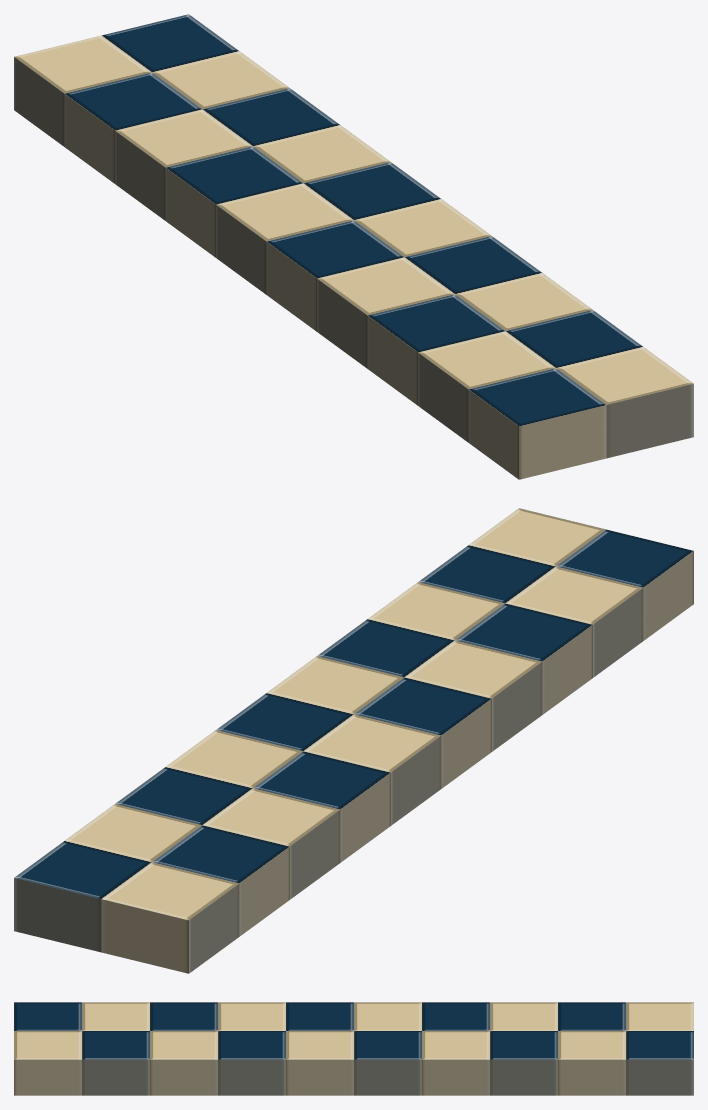
Rendered from check.FBX.
3 views of the same model, one above another, from view 1: azimuth 30°, elevation 25°; view 2: azimuth 150°, elevation 25°; view 3: azimuth 270°, elevation 25° (orthographic). The views are drawn at different scales.
Parts seen in each view (by area): view 1: Object028; view 2: Object028; view 3: Object028.
Boxes of the visible parts, <box> form: Object028: <box>14,14,693,479</box>; Object028: <box>14,508,693,973</box>; Object028: <box>14,1002,693,1095</box>.
Bounding box in the file's own units: 37.8 × 11.01 × 189.
